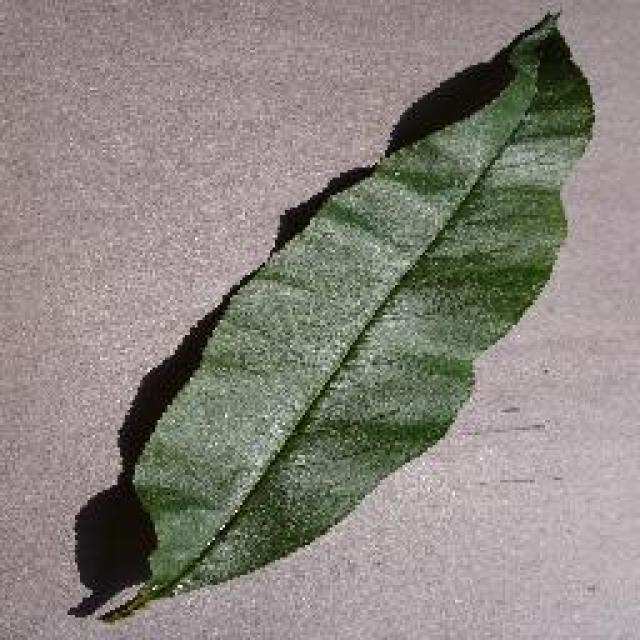Pea_healthy: (180, 59, 532, 549)
